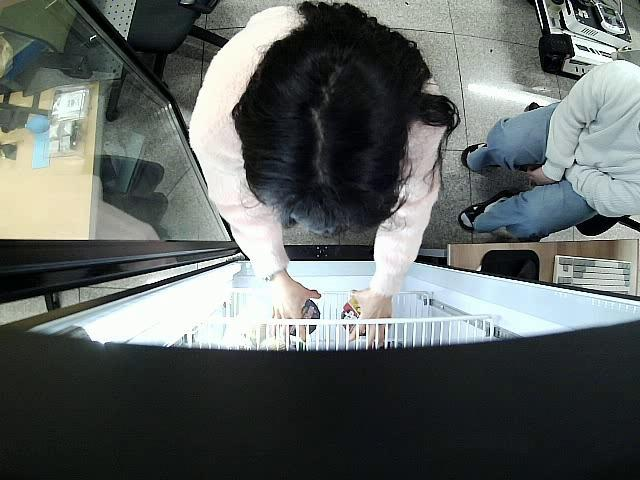08_buldak_S: (289, 299, 319, 333), (342, 298, 368, 336)
